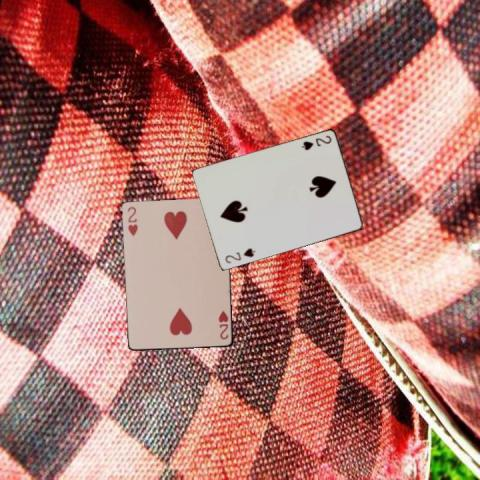2h: (125, 204, 139, 238), (216, 308, 230, 341)
2s: (222, 244, 256, 264), (299, 132, 332, 151)
